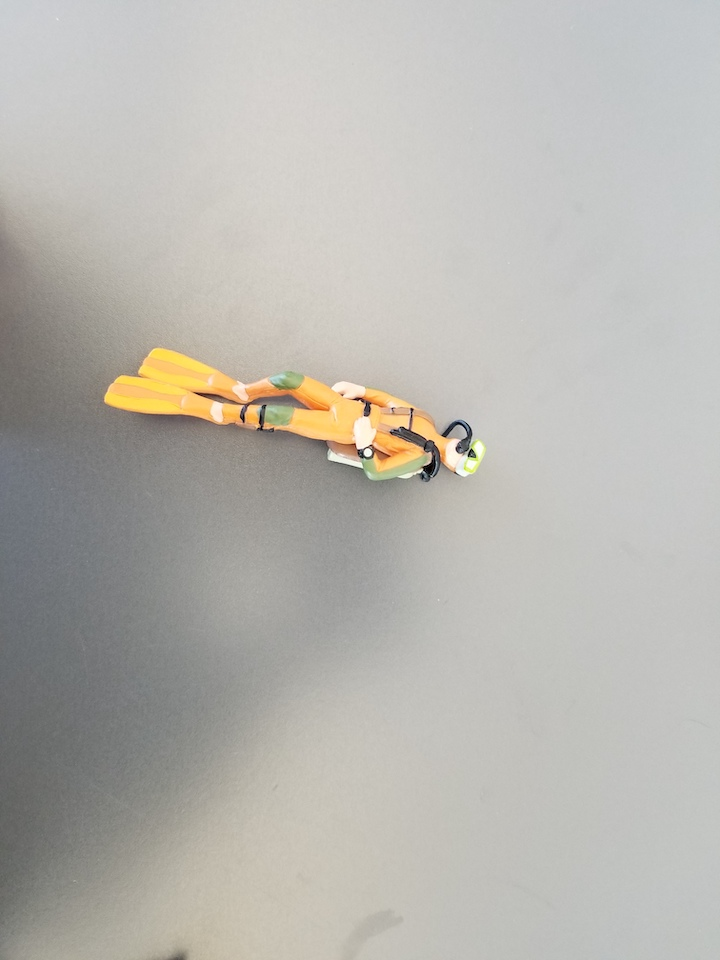diver: (103, 346, 489, 487)
